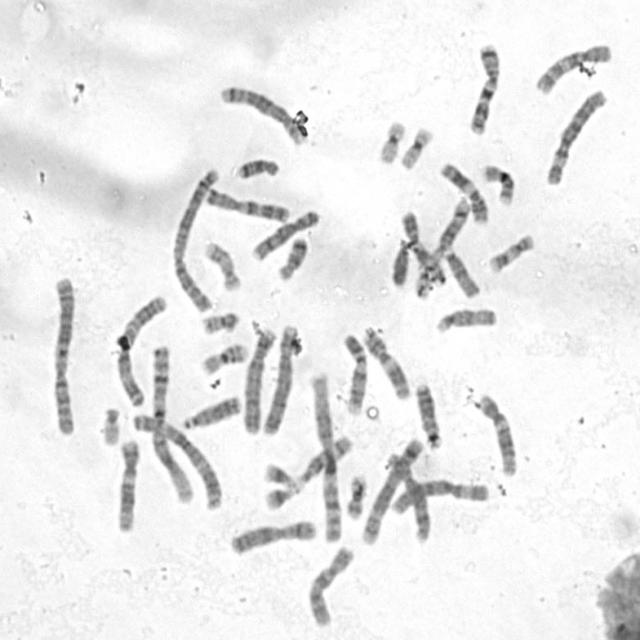A1: (146, 339, 195, 506), (304, 368, 344, 544)
A2: (168, 162, 222, 314), (48, 269, 79, 437)
A3: (129, 408, 225, 511), (111, 288, 169, 408)
B4: (257, 319, 301, 436), (240, 324, 278, 435)
B5: (358, 434, 428, 546), (216, 80, 304, 146)
C10: (531, 38, 614, 96), (304, 540, 356, 628)
C11: (358, 321, 414, 402), (438, 157, 493, 226)
C12: (474, 389, 519, 477), (112, 434, 141, 534)
C6: (542, 83, 610, 187), (387, 474, 491, 516)
C7: (201, 182, 293, 224), (465, 37, 503, 136)
C8: (381, 447, 434, 545), (248, 205, 323, 262)
C9: (398, 206, 448, 287), (338, 328, 371, 417)
D13: (179, 390, 243, 431), (411, 377, 445, 451)
D14: (292, 430, 355, 487), (431, 193, 473, 258)
D15: (440, 242, 482, 300), (431, 302, 500, 335)
E16: (198, 338, 250, 376), (478, 159, 517, 207)
E17: (200, 236, 243, 292), (484, 228, 536, 274)
E18: (274, 232, 310, 282), (232, 152, 282, 181)
F19: (397, 122, 435, 172), (375, 116, 407, 164)
F20: (342, 469, 369, 521), (198, 306, 242, 336)
G21: (260, 456, 300, 491), (260, 480, 302, 512)
G22: (98, 402, 122, 447), (413, 272, 434, 300)
X: (226, 514, 319, 557)
Y: (388, 236, 411, 288)
